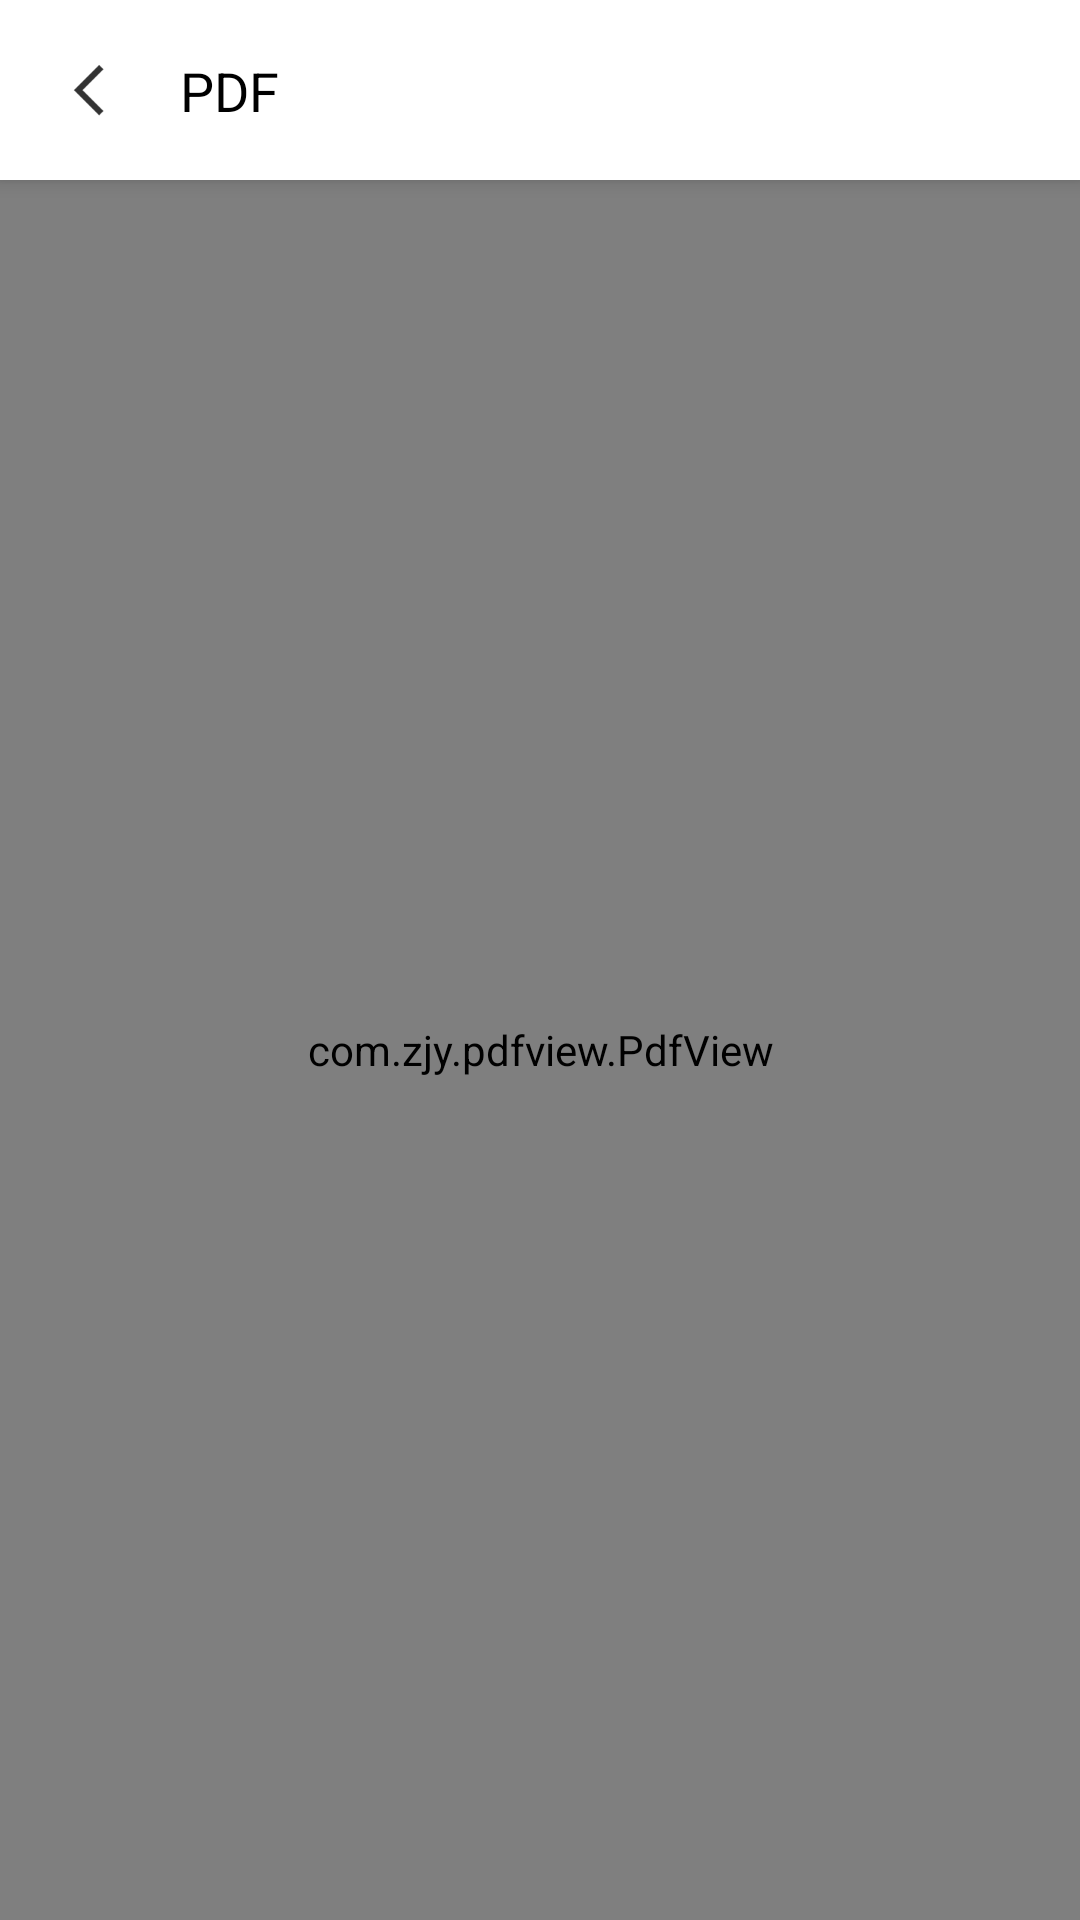

Named icons in this screenshot (1080px x 1920px) and their bounding boxes, (x1, y1, x2, y2):
pdf left arrow: (74, 65, 104, 116)
